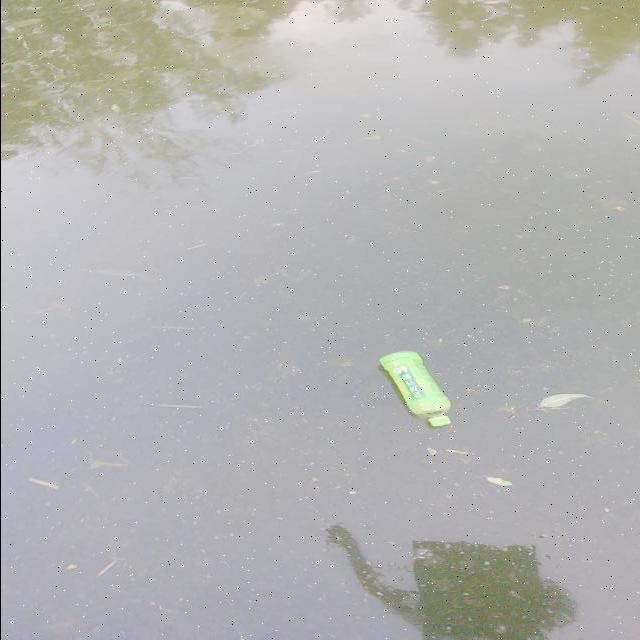Bottle: (370, 344, 454, 432)
